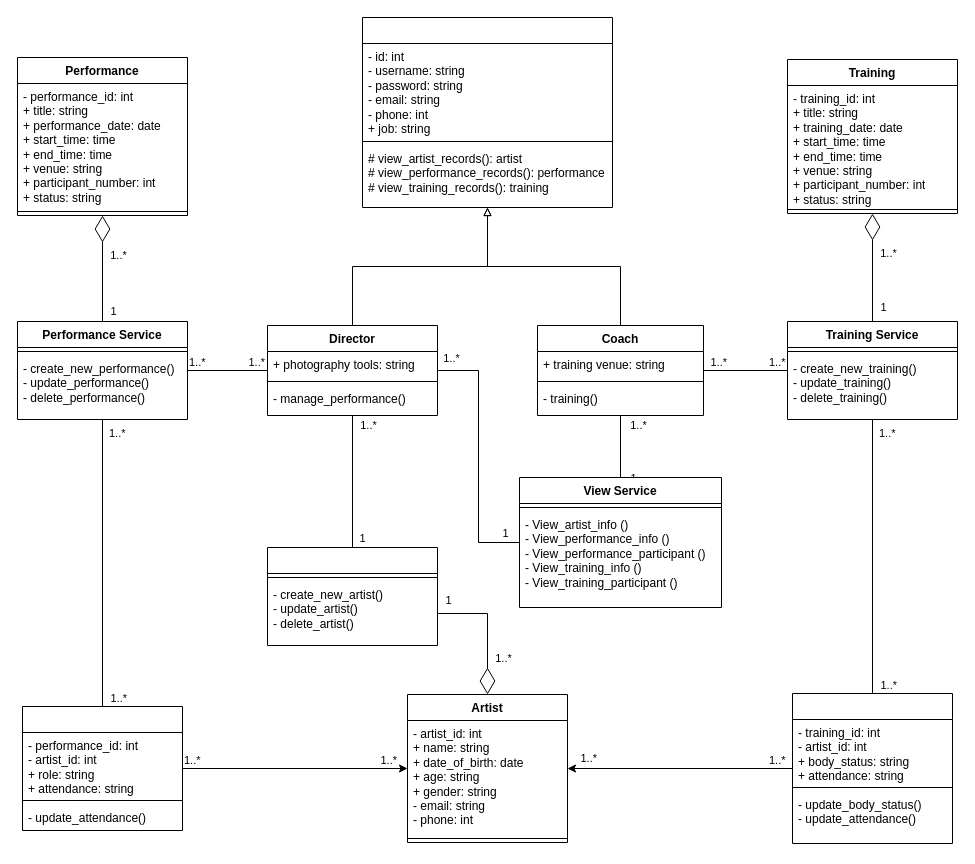
Some shapes in this 975 by 864 pixel diagram are drawn without their labels. The box of each missing label's shape, as (x1, y1, x2, y2) in pixels:
App Users: (362, 16, 612, 208)
Artist Service: (266, 546, 438, 646)
Performance Participant: (22, 706, 182, 830)
Training Participant: (792, 692, 952, 844)
